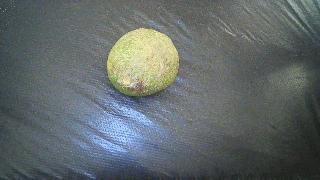DESECHO: (107, 28, 179, 96)
